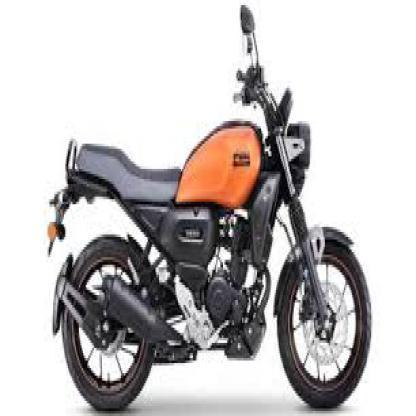Motorcycle: (38, 2, 375, 415)
